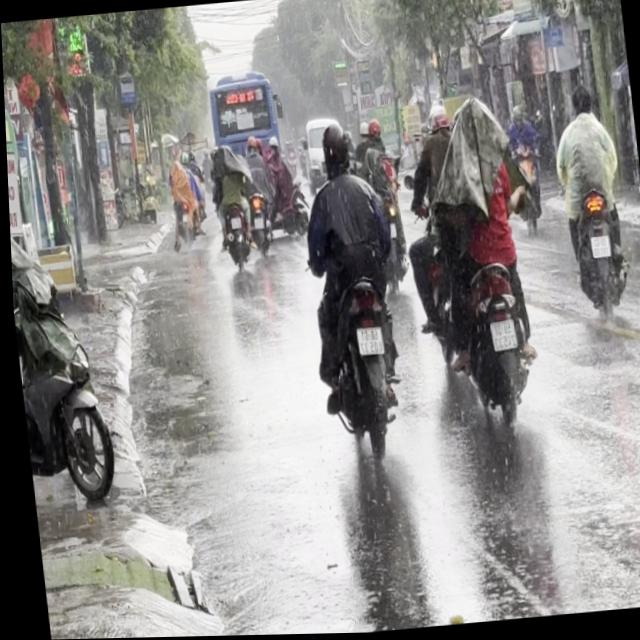helmet: (316, 118, 350, 176), (425, 101, 448, 133), (363, 117, 382, 146)
licenseplate: (405, 92, 547, 450), (285, 111, 413, 469), (4, 125, 115, 508), (545, 79, 634, 324)
motorcyclist: (568, 84, 591, 118)
nohelmet: (486, 319, 513, 352), (353, 325, 380, 356), (587, 236, 607, 257)
